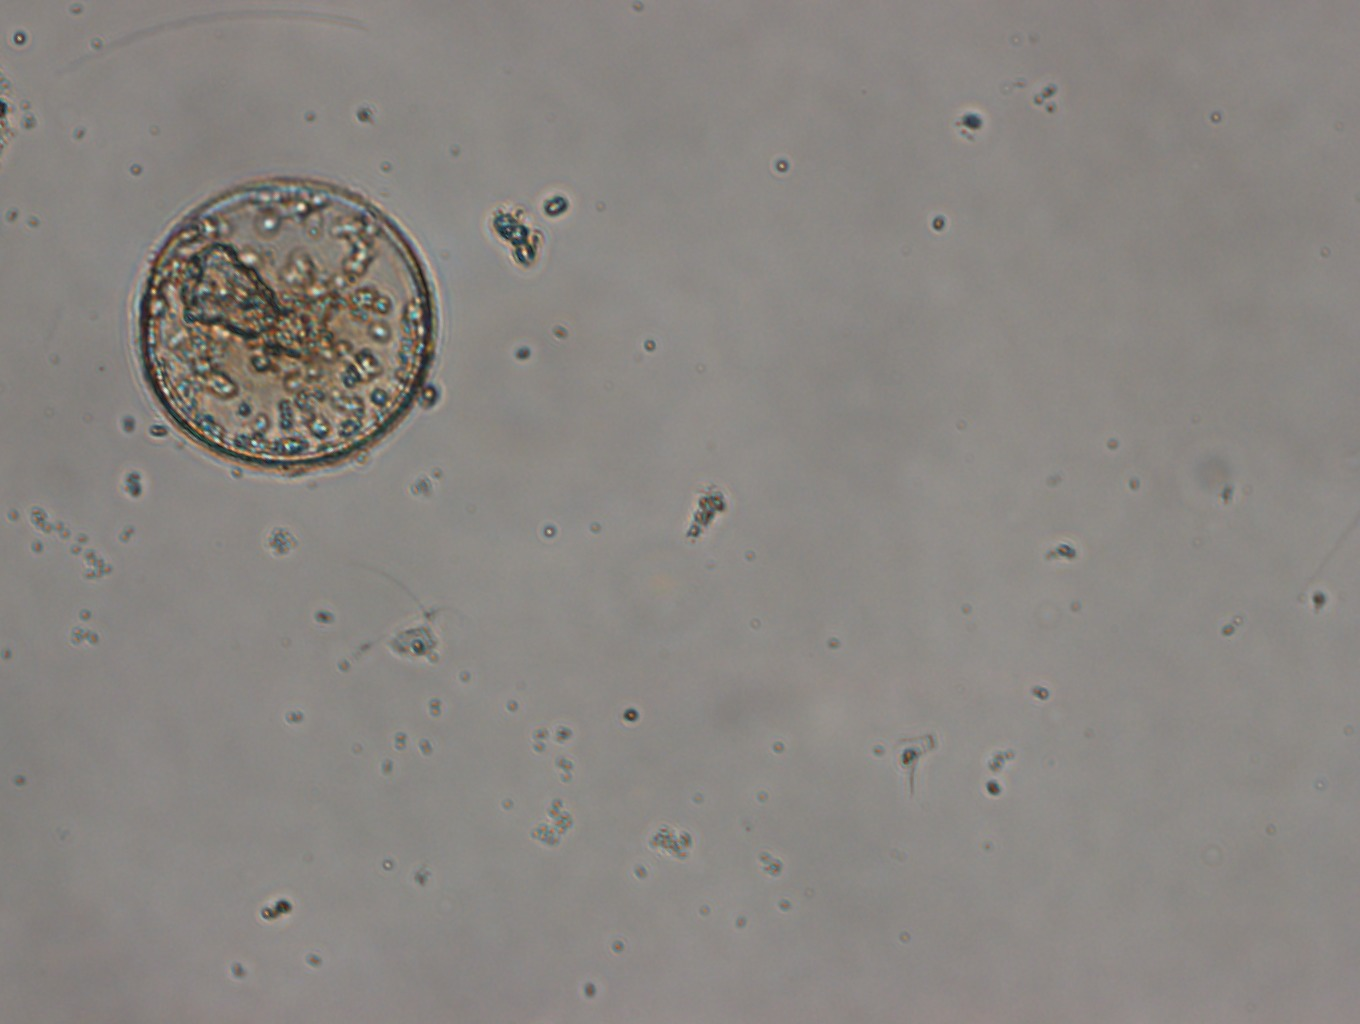coscinodiscus: (134, 169, 441, 477)
